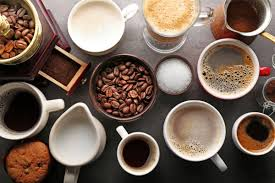kahve: (89, 53, 158, 123)
